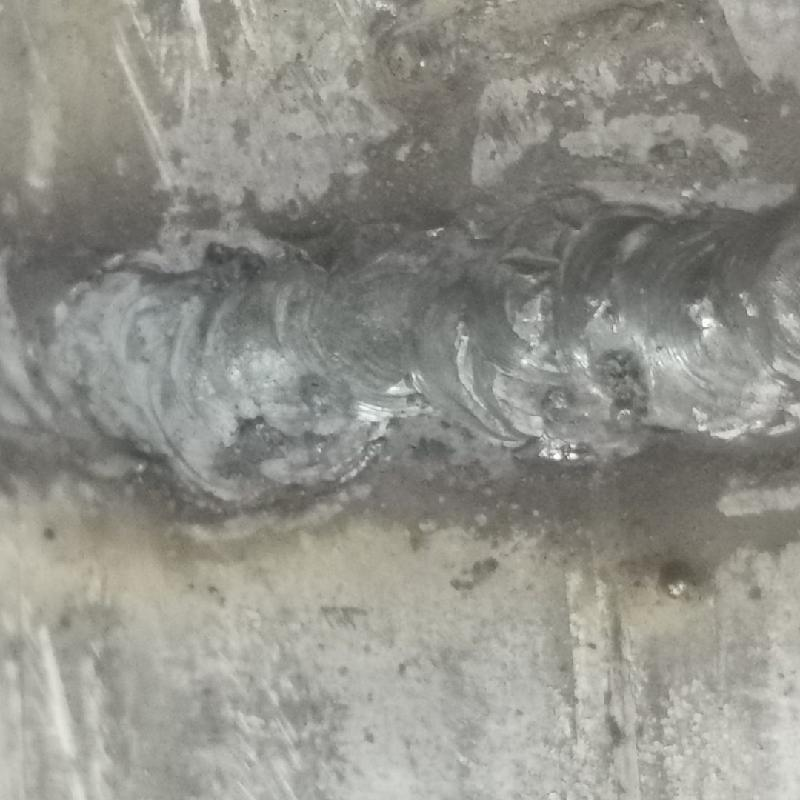good: (1, 209, 799, 507)
